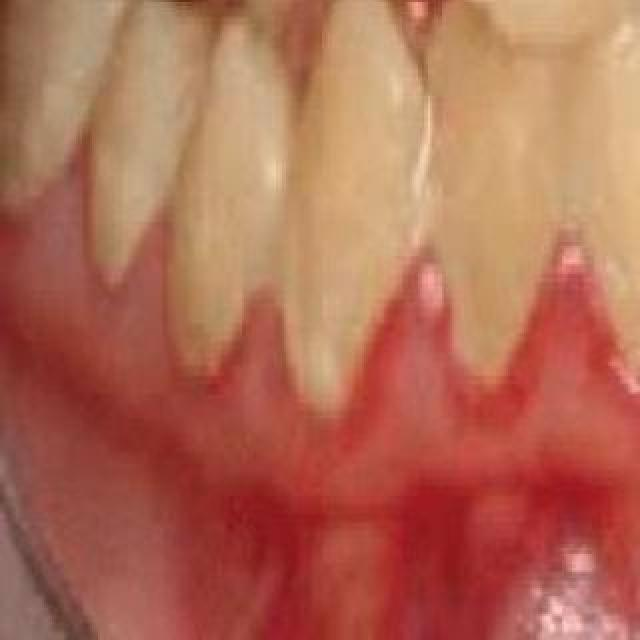calculus: (264, 196, 396, 418), (421, 191, 559, 393), (154, 191, 264, 389), (582, 204, 640, 390)
maligned: (284, 0, 418, 350), (562, 0, 640, 370), (472, 0, 640, 22)
